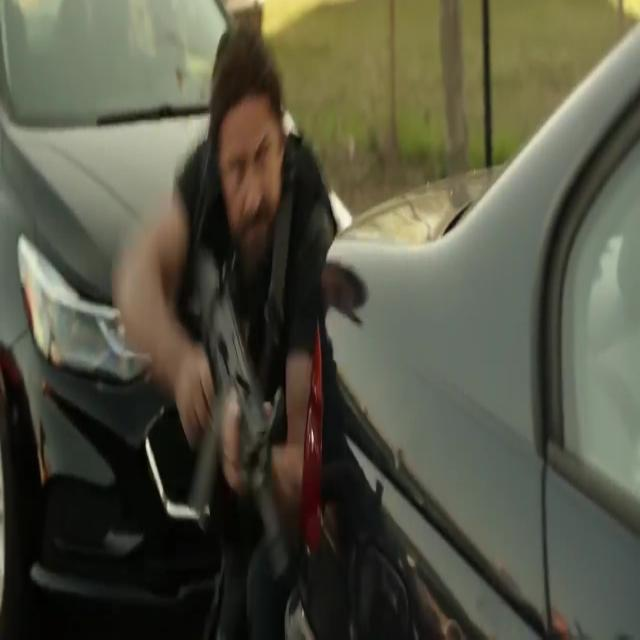Weapon: (181, 278, 295, 612)
